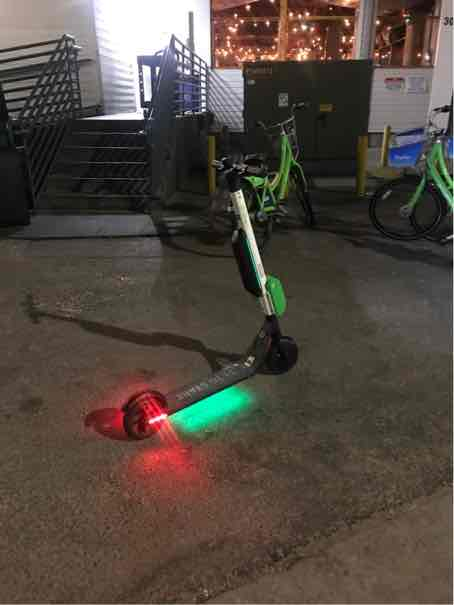scooter: (91, 139, 318, 446)
